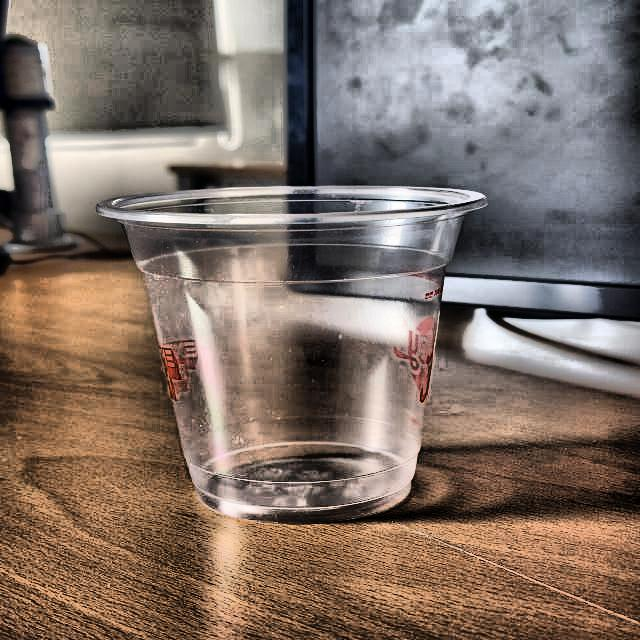plastic cup: (92, 179, 490, 526)
